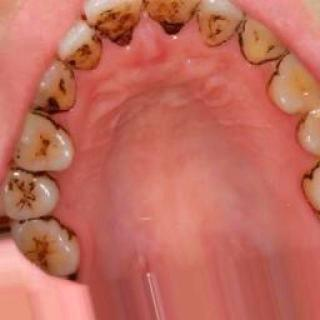stains: (26, 217, 78, 286), (82, 0, 146, 44), (26, 112, 76, 168), (38, 63, 82, 111), (142, 0, 200, 36), (11, 169, 67, 205), (66, 23, 102, 69), (242, 23, 286, 58), (200, 4, 241, 41), (289, 110, 320, 150), (305, 164, 320, 202), (271, 56, 288, 84)
